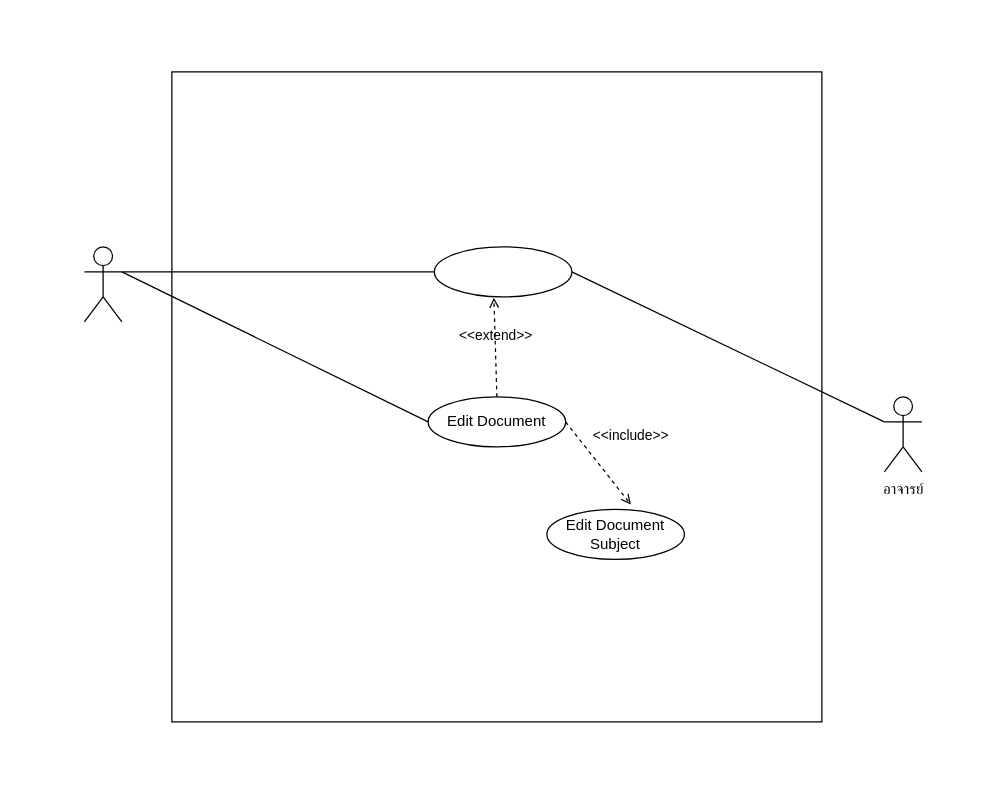
This 993x793 diagram has some shape labels left out. The centre of each missing label's shape, as x and y in pixels:
Search Document: pixel 502 271
เจ้าหน้าที่: pixel 102 284
